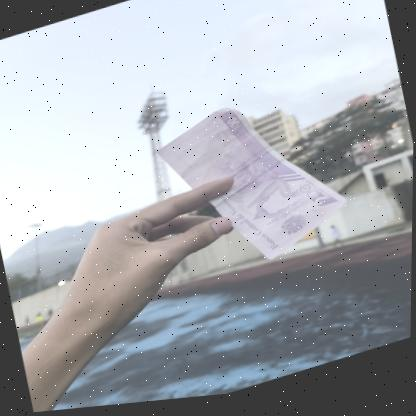one_hundred-back-vef: (148, 79, 356, 293)
